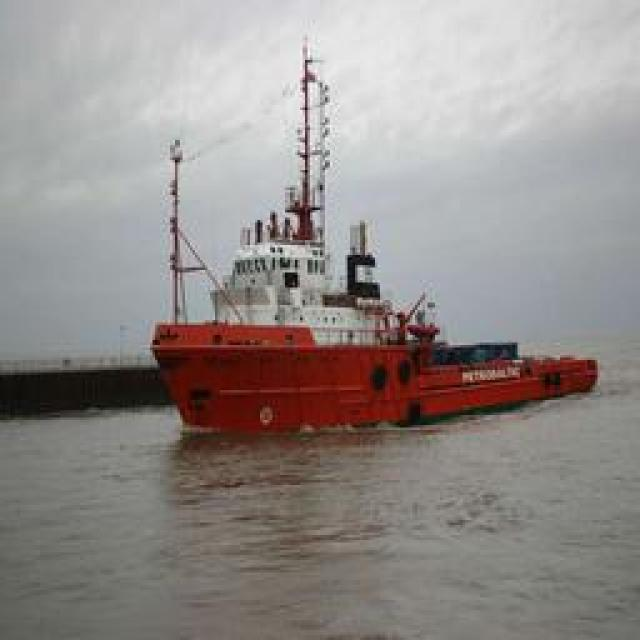CIV_Ship: (152, 21, 566, 424)
